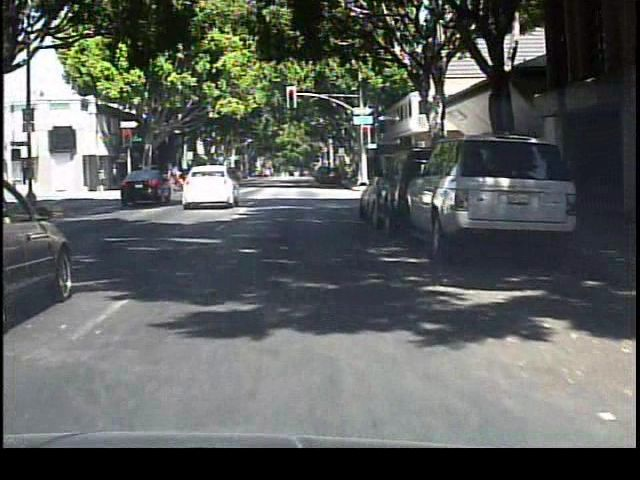person: (170, 162, 186, 201)
